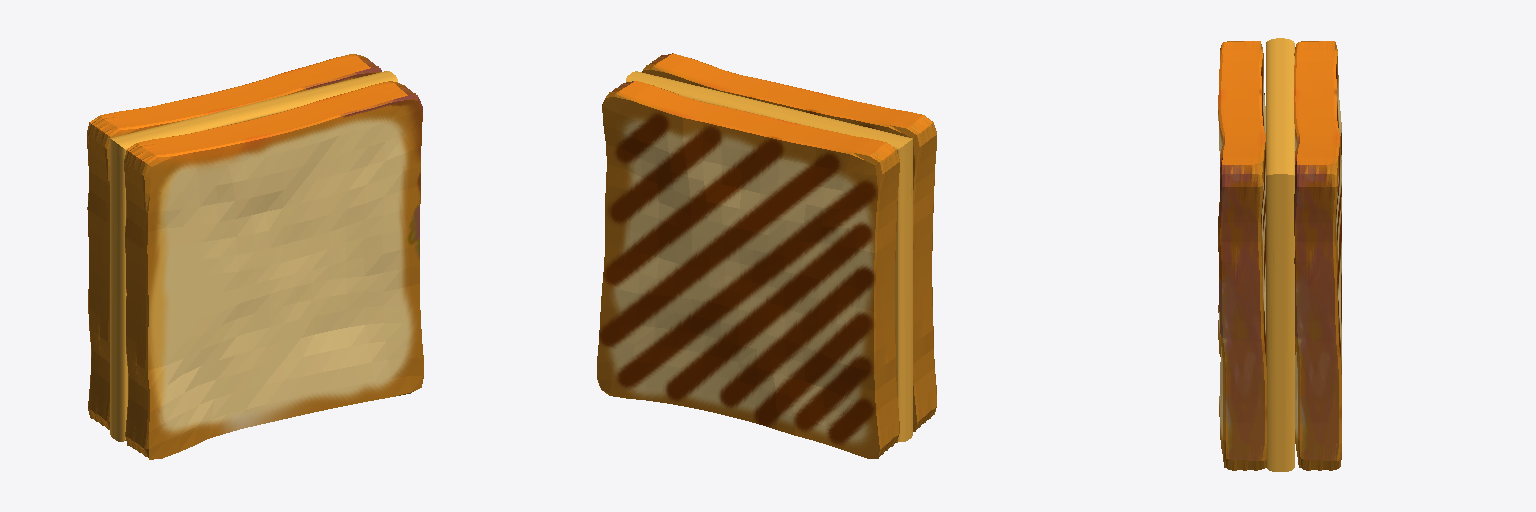
3 views of the same model, side by side, from view 1: azimuth 30°, elevation 25°; view 2: azimuth 150°, elevation 25°; view 3: azimuth 270°, elevation 25° (orthographic).
Parts seen in each view (by area): view 1: Bread_Cube.003, Bread_Cube.002, Cheese.001; view 2: Bread_Cube.002, Bread_Cube.003, Cheese.001; view 3: Bread_Cube.003, Bread_Cube.002, Cheese.001.
Part boxes in pixels (bbox=[...]): Bread_Cube.003: bbox=[124, 81, 423, 459]; Bread_Cube.002: bbox=[87, 54, 381, 429]; Cheese.001: bbox=[110, 71, 397, 441]; Bread_Cube.002: bbox=[597, 81, 899, 458]; Bread_Cube.003: bbox=[642, 53, 936, 431]; Cheese.001: bbox=[626, 71, 912, 441]; Bread_Cube.003: bbox=[1218, 41, 1266, 470]; Bread_Cube.002: bbox=[1294, 41, 1341, 470]; Cheese.001: bbox=[1266, 38, 1294, 471].
Bounding box in the file's own units: 0.1409 × 0.1439 × 0.0532.
Materials: 3 (2 with a texture image).